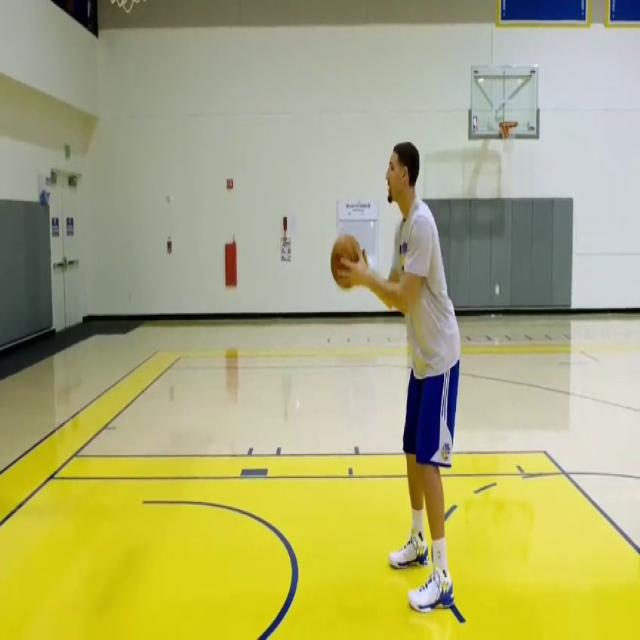ball: (331, 233, 362, 289)
